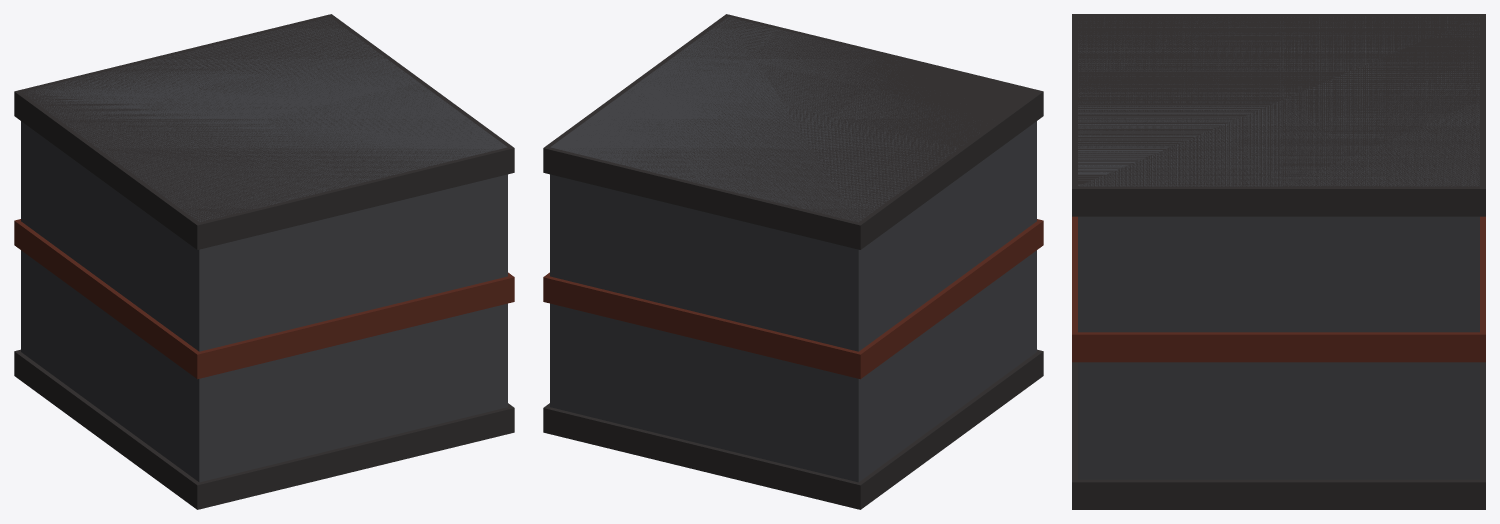
The model's file is supply_crate.glb.
3 renders of one model, left to right at view 1: azimuth 30°, elevation 25°; view 2: azimuth 150°, elevation 25°; view 3: azimuth 270°, elevation 25°, orthographic. The views are drawn at different scales.
Parts seen in each view (by area): view 1: crate; view 2: crate; view 3: crate.
Part boxes in pixels (left/top/right/bottom): crate: left=14, top=14, right=514, bottom=509; crate: left=543, top=14, right=1043, bottom=509; crate: left=1072, top=14, right=1485, bottom=509.
Size of the model in its own units: 2.16 by 1.85 by 2.16.
